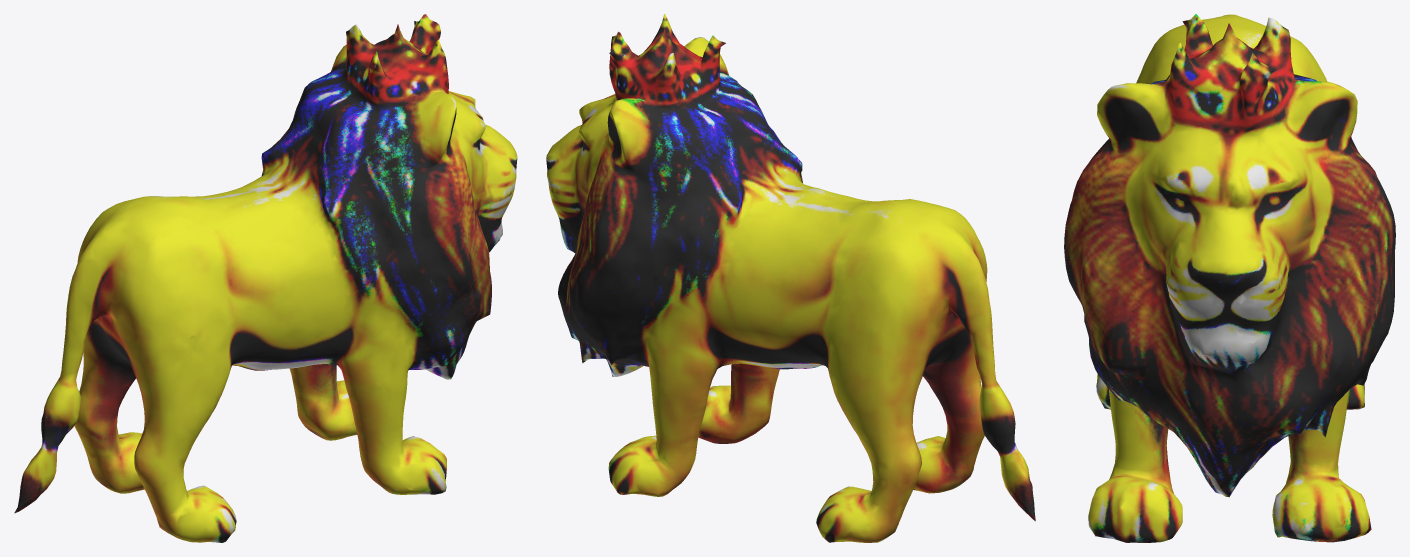
Rendered from MountainLion.glb.
3 renders of one model, left to right at view 1: azimuth 30°, elevation 25°; view 2: azimuth 150°, elevation 25°; view 3: azimuth 270°, elevation 25°, orthographic. The views are drawn at different scales.
Parts seen in each view (by area): view 1: Mesh1; view 2: Mesh1; view 3: Mesh1.
Boxes of the visible parts, x1,y1,x2,y2 form: Mesh1: (14, 14, 517, 542); Mesh1: (546, 14, 1035, 542); Mesh1: (1064, 14, 1395, 542).
Size of the model in its own units: 1.2 by 1.01 by 0.5761.
1 material, 1 textured.
